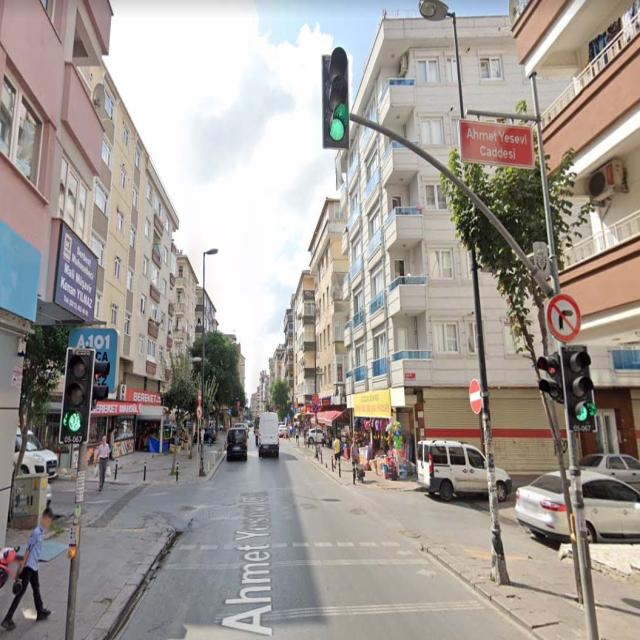girisyok: (469, 377, 481, 413)
sagadonulmez: (547, 294, 581, 342)
yesil: (560, 345, 596, 435), (61, 348, 92, 442), (321, 52, 350, 148)
